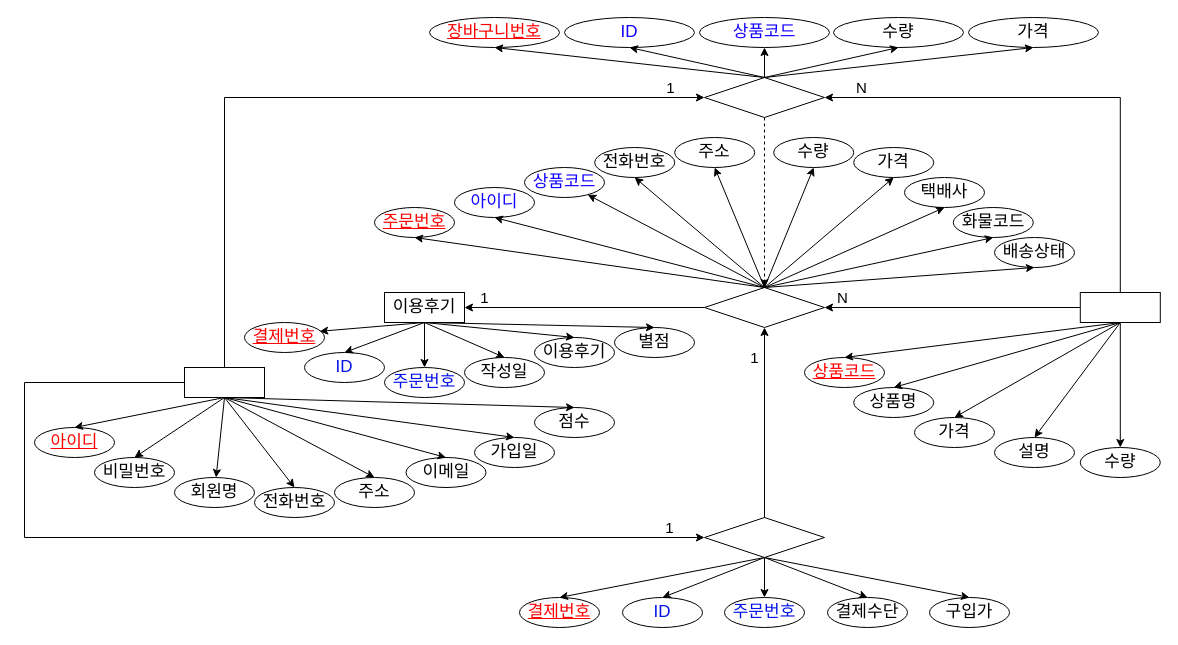
Image size: 1178x645. Some labels were removed from this diagram. The centre of each missing label's shape, as x and y in pixels:
결제: point (764, 537)
상품: point (1119, 307)
장바구니: point (764, 97)
주문: point (764, 307)
회원: point (224, 382)
